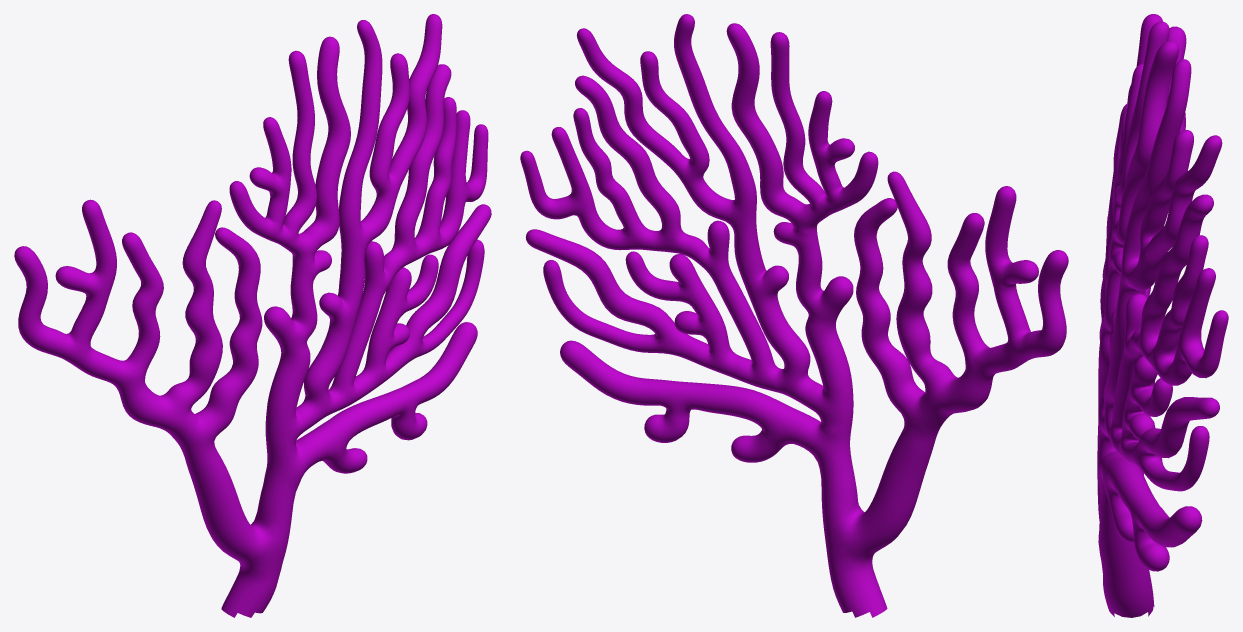
File: coral2.glb
3 renders of one model, left to right at view 1: azimuth 30°, elevation 25°; view 2: azimuth 150°, elevation 25°; view 3: azimuth 270°, elevation 25°, orthographic. The views are drawn at different scales.
Visible parts, largest first — view 1: 21487_Gorgonian_Soft_Coral_v1; view 2: 21487_Gorgonian_Soft_Coral_v1; view 3: 21487_Gorgonian_Soft_Coral_v1.
Boxes of the visible parts, x1=… form: 21487_Gorgonian_Soft_Coral_v1: x1=14, y1=14, x2=491, y2=617; 21487_Gorgonian_Soft_Coral_v1: x1=520, y1=14, x2=1068, y2=617; 21487_Gorgonian_Soft_Coral_v1: x1=1097, y1=14, x2=1228, y2=617.
Bounding box in the file's own units: 59.74 × 62.68 × 11.79.
